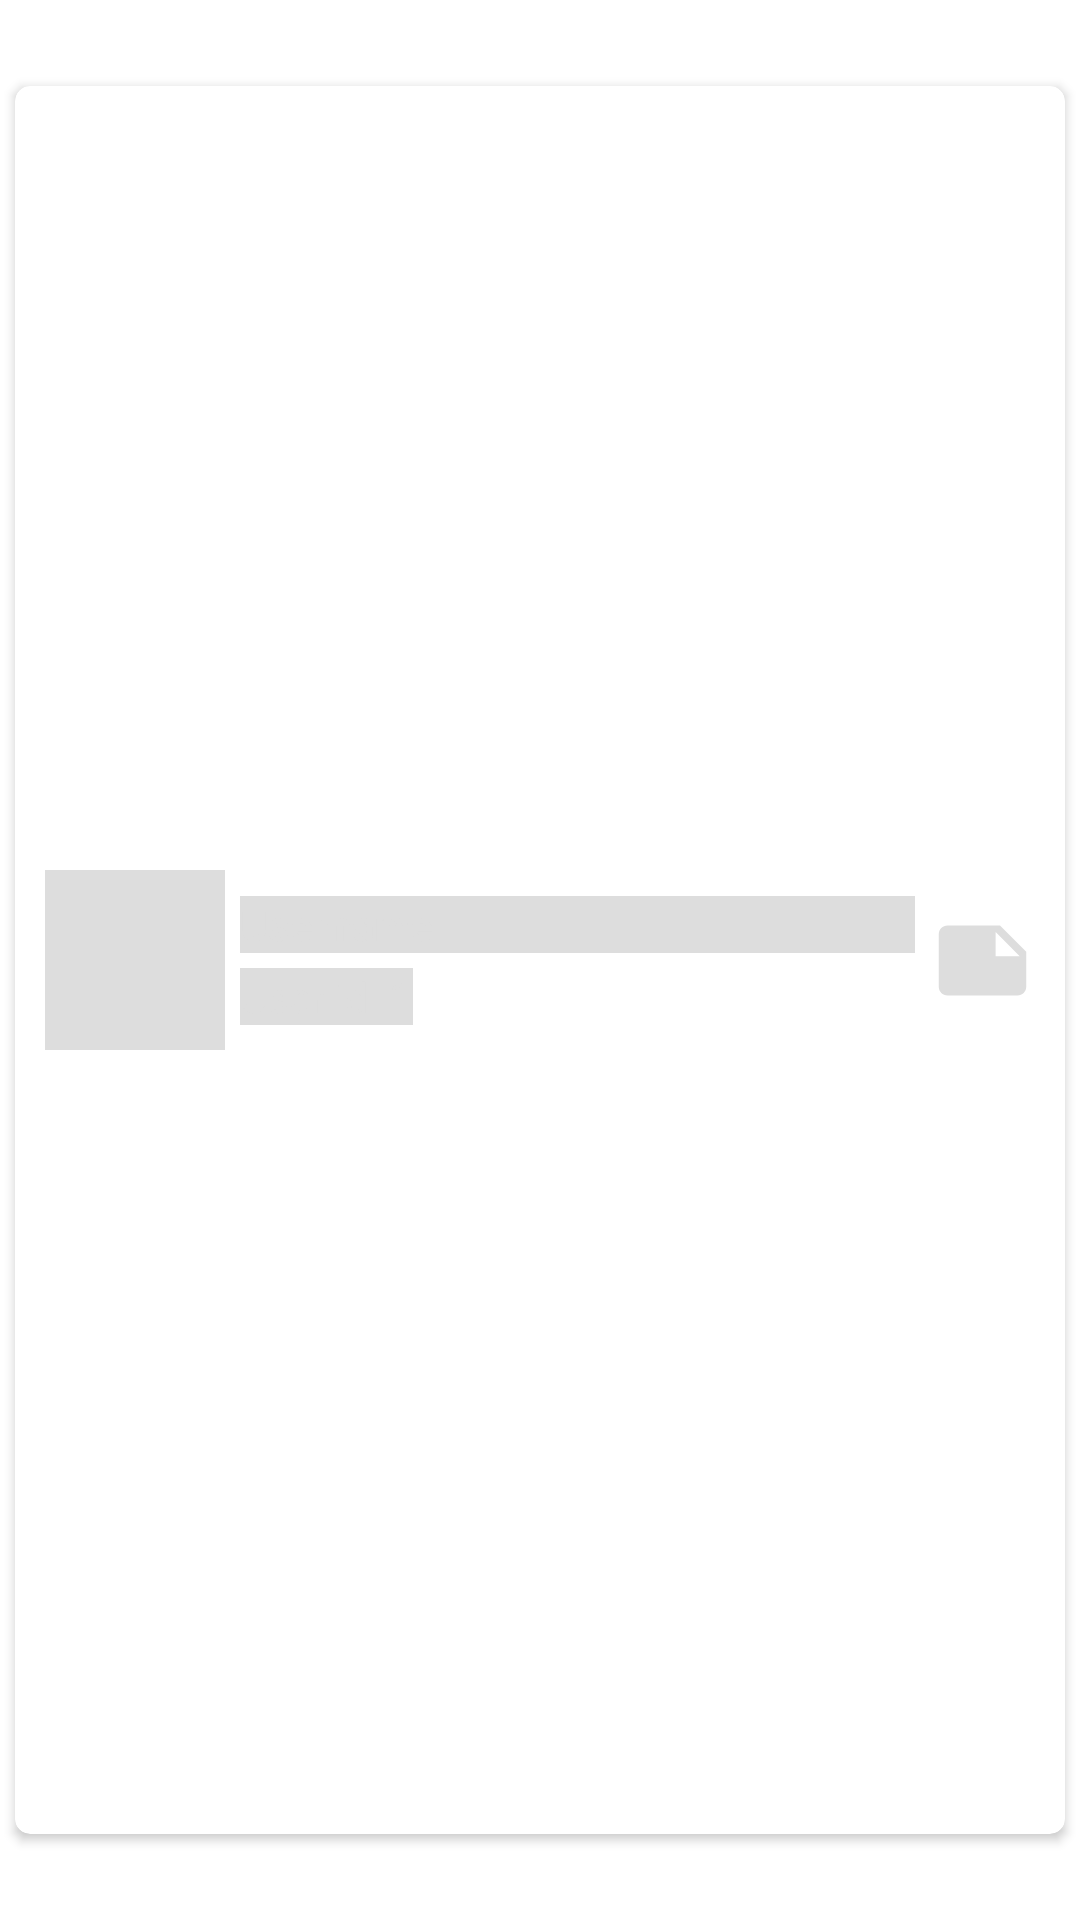

Screen size 1080x1920. Icon name, then its center in pixels as [x,y]:
note: [982,960]
